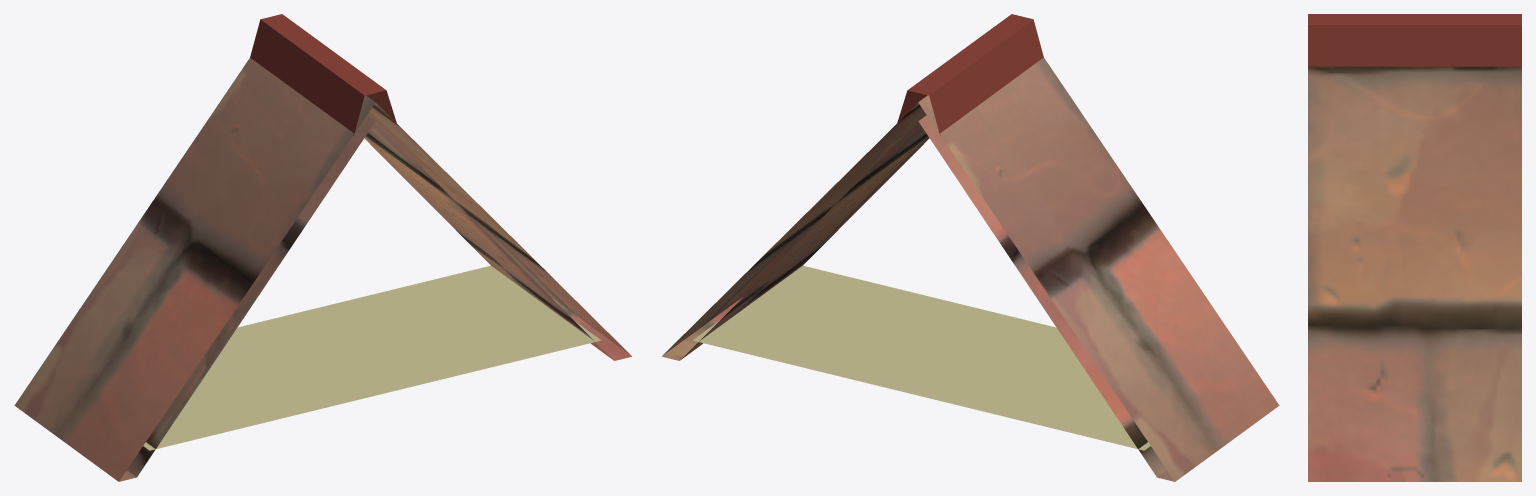
Rendered from roof_10x6x4.fbx.
The picture shows the model from 3 angles, left to right: view 1: azimuth 30°, elevation 25°; view 2: azimuth 150°, elevation 25°; view 3: azimuth 270°, elevation 25°; orthographic projection. The views are drawn at different scales.
Visible parts, largest first — view 1: roof_10x6x4; view 2: roof_10x6x4; view 3: roof_10x6x4.
Part boxes in pixels (x1=…): roof_10x6x4: x1=14, y1=14, x2=631, y2=481; roof_10x6x4: x1=662, y1=14, x2=1279, y2=481; roof_10x6x4: x1=1308, y1=14, x2=1521, y2=481.
Bounding box in the file's own units: 1137 × 690 × 400.
